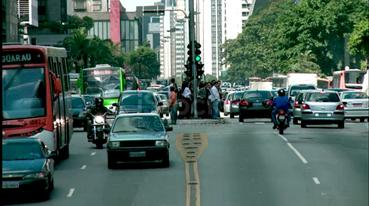bus: (0, 32, 79, 175), (76, 61, 148, 117)
car: (99, 106, 179, 176), (0, 133, 67, 203), (298, 87, 348, 130), (235, 86, 283, 125)
motorcycle: (81, 103, 114, 148), (269, 92, 296, 136)
